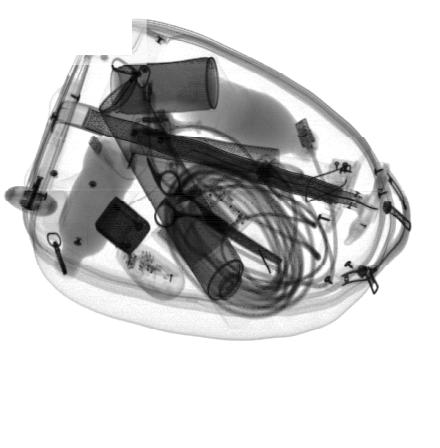Lighter: (96, 196, 150, 254)
Powerbank: (150, 164, 256, 286)
Scissors: (148, 156, 283, 267)
Sprayer: (98, 77, 267, 332)
